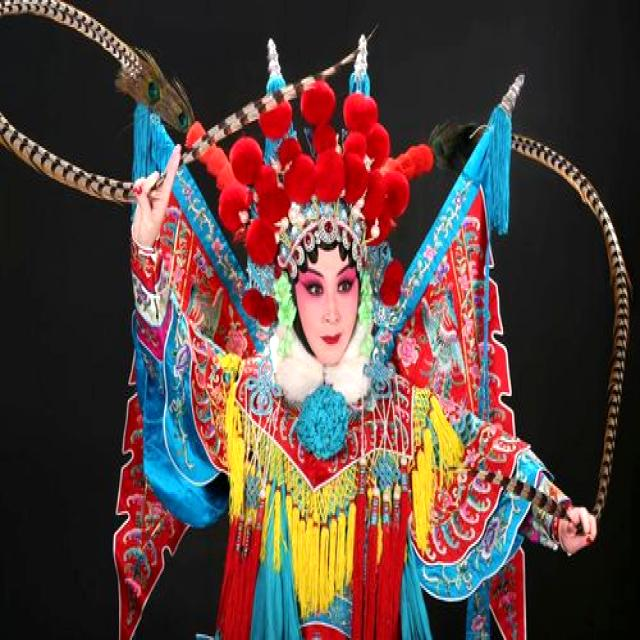Reeves-s Pheasant: (512, 135, 630, 517), (0, 0, 152, 79), (0, 113, 129, 198), (280, 50, 353, 98), (206, 100, 274, 138), (141, 71, 191, 117)
